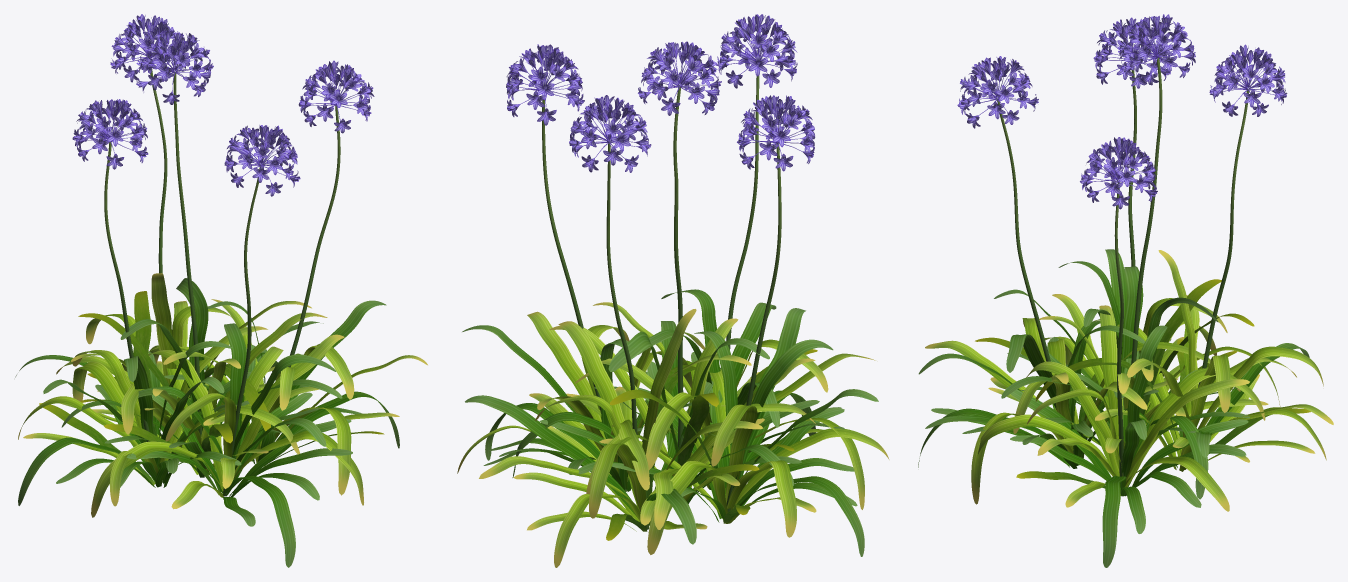
Rendered from Agapanthus praecox.fbx.
3 views of the same model, side by side, from view 1: azimuth 30°, elevation 25°; view 2: azimuth 150°, elevation 25°; view 3: azimuth 270°, elevation 25° (orthographic). The views are drawn at different scales.
Parts seen in each view (by area): view 1: Leaves, Flowers, Stem; view 2: Leaves, Flowers, Stem; view 3: Leaves, Flowers, Stem.
Boxes of the visible parts, x1,y1,x2,y2 form: Leaves: [15, 273, 427, 567]; Flowers: [72, 14, 374, 196]; Stem: [104, 68, 340, 496]; Leaves: [457, 289, 889, 567]; Flowers: [506, 14, 815, 172]; Stem: [542, 75, 781, 529]; Leaves: [918, 249, 1333, 567]; Flowers: [957, 14, 1287, 209]; Stem: [997, 58, 1248, 493].
Size of the model in its own units: 90.02 by 105 by 87.26.
5 materials, 5 textured.
